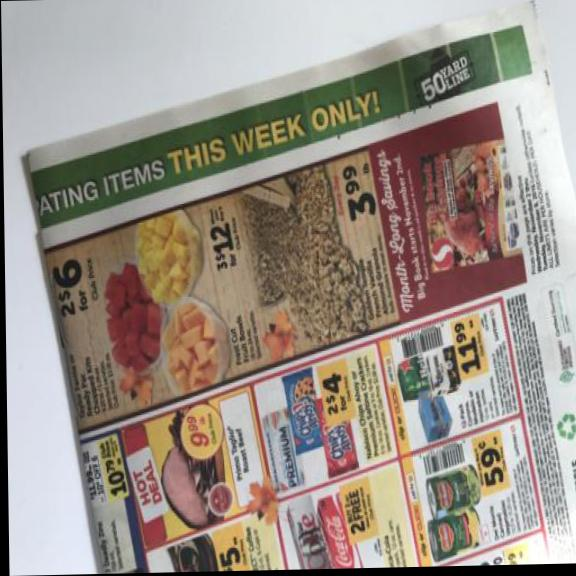Kertas: (14, 35, 576, 574)
